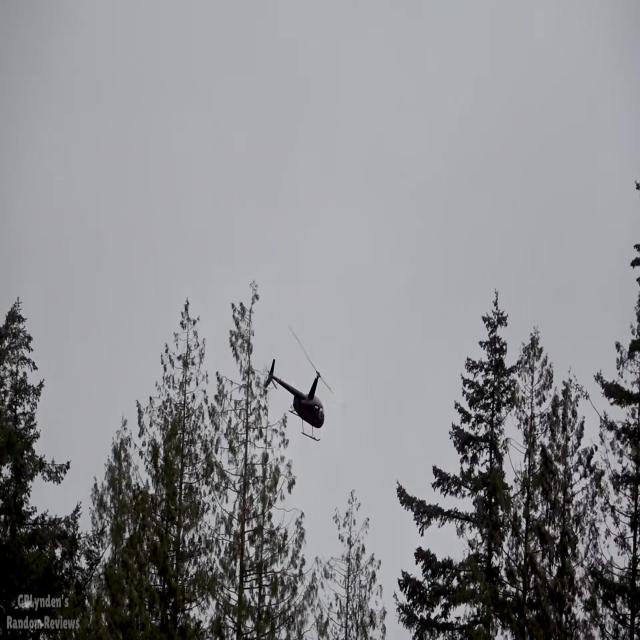CIV_HELO: (263, 359, 326, 442)
